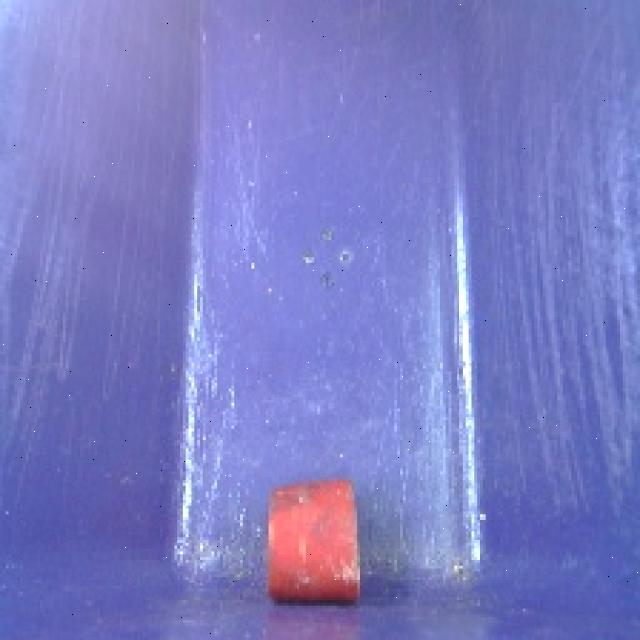carrots: (258, 471, 369, 613)
